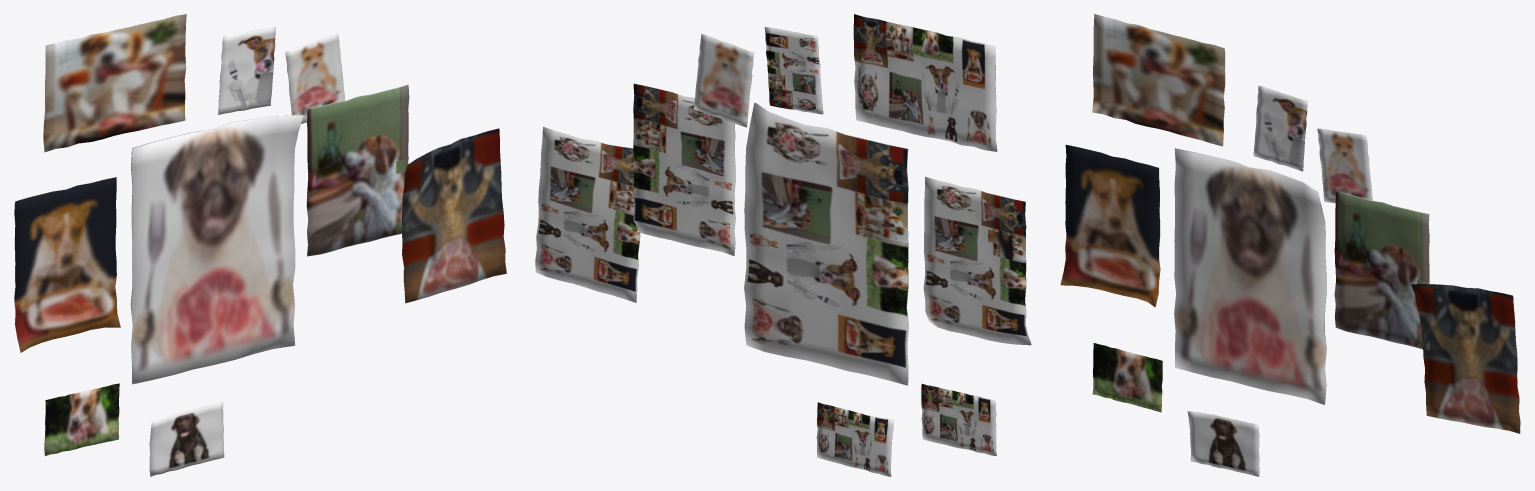
The model's file is Evidence.fbx.
3 renders of one model, left to right at view 1: azimuth 30°, elevation 25°; view 2: azimuth 150°, elevation 25°; view 3: azimuth 330°, elevation 25°, orthographic. The views are drawn at different scales.
Visible parts, largest first — view 1: EvidenceWall; view 2: EvidenceWall; view 3: EvidenceWall.
Part boxes in pixels (box(x1,y1,x2,y2)): EvidenceWall: box(14, 14, 506, 476); EvidenceWall: box(535, 14, 1031, 476); EvidenceWall: box(1060, 14, 1520, 476).
Size of the model in its own units: 116 by 103 by 5.18.
1 material, 1 textured.
